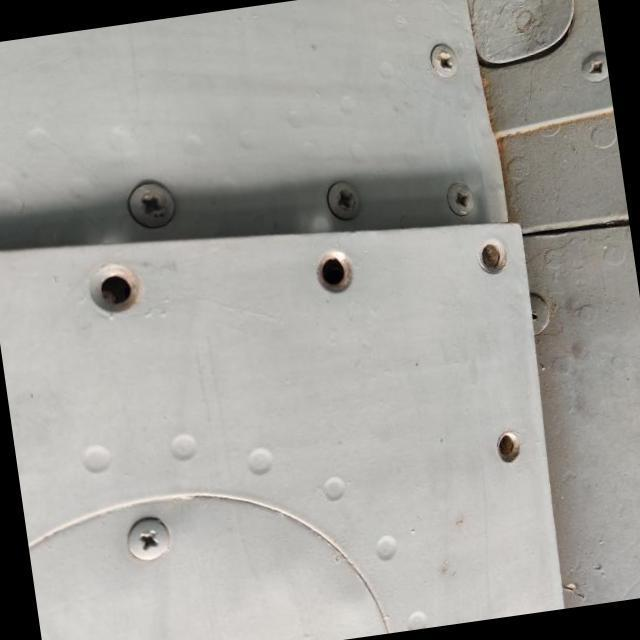Fastener Damage: (68, 226, 184, 340), (290, 233, 390, 334), (466, 410, 550, 491), (450, 222, 532, 296)
